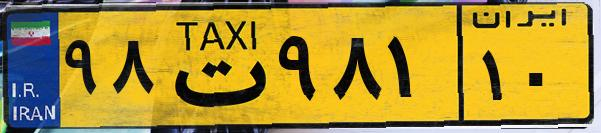0: (525, 38, 570, 115)
1: (385, 28, 445, 110), (475, 38, 525, 113)
8: (330, 28, 385, 110), (110, 28, 158, 98)
9: (270, 28, 330, 110), (57, 26, 110, 100)
ت: (158, 12, 270, 120)
